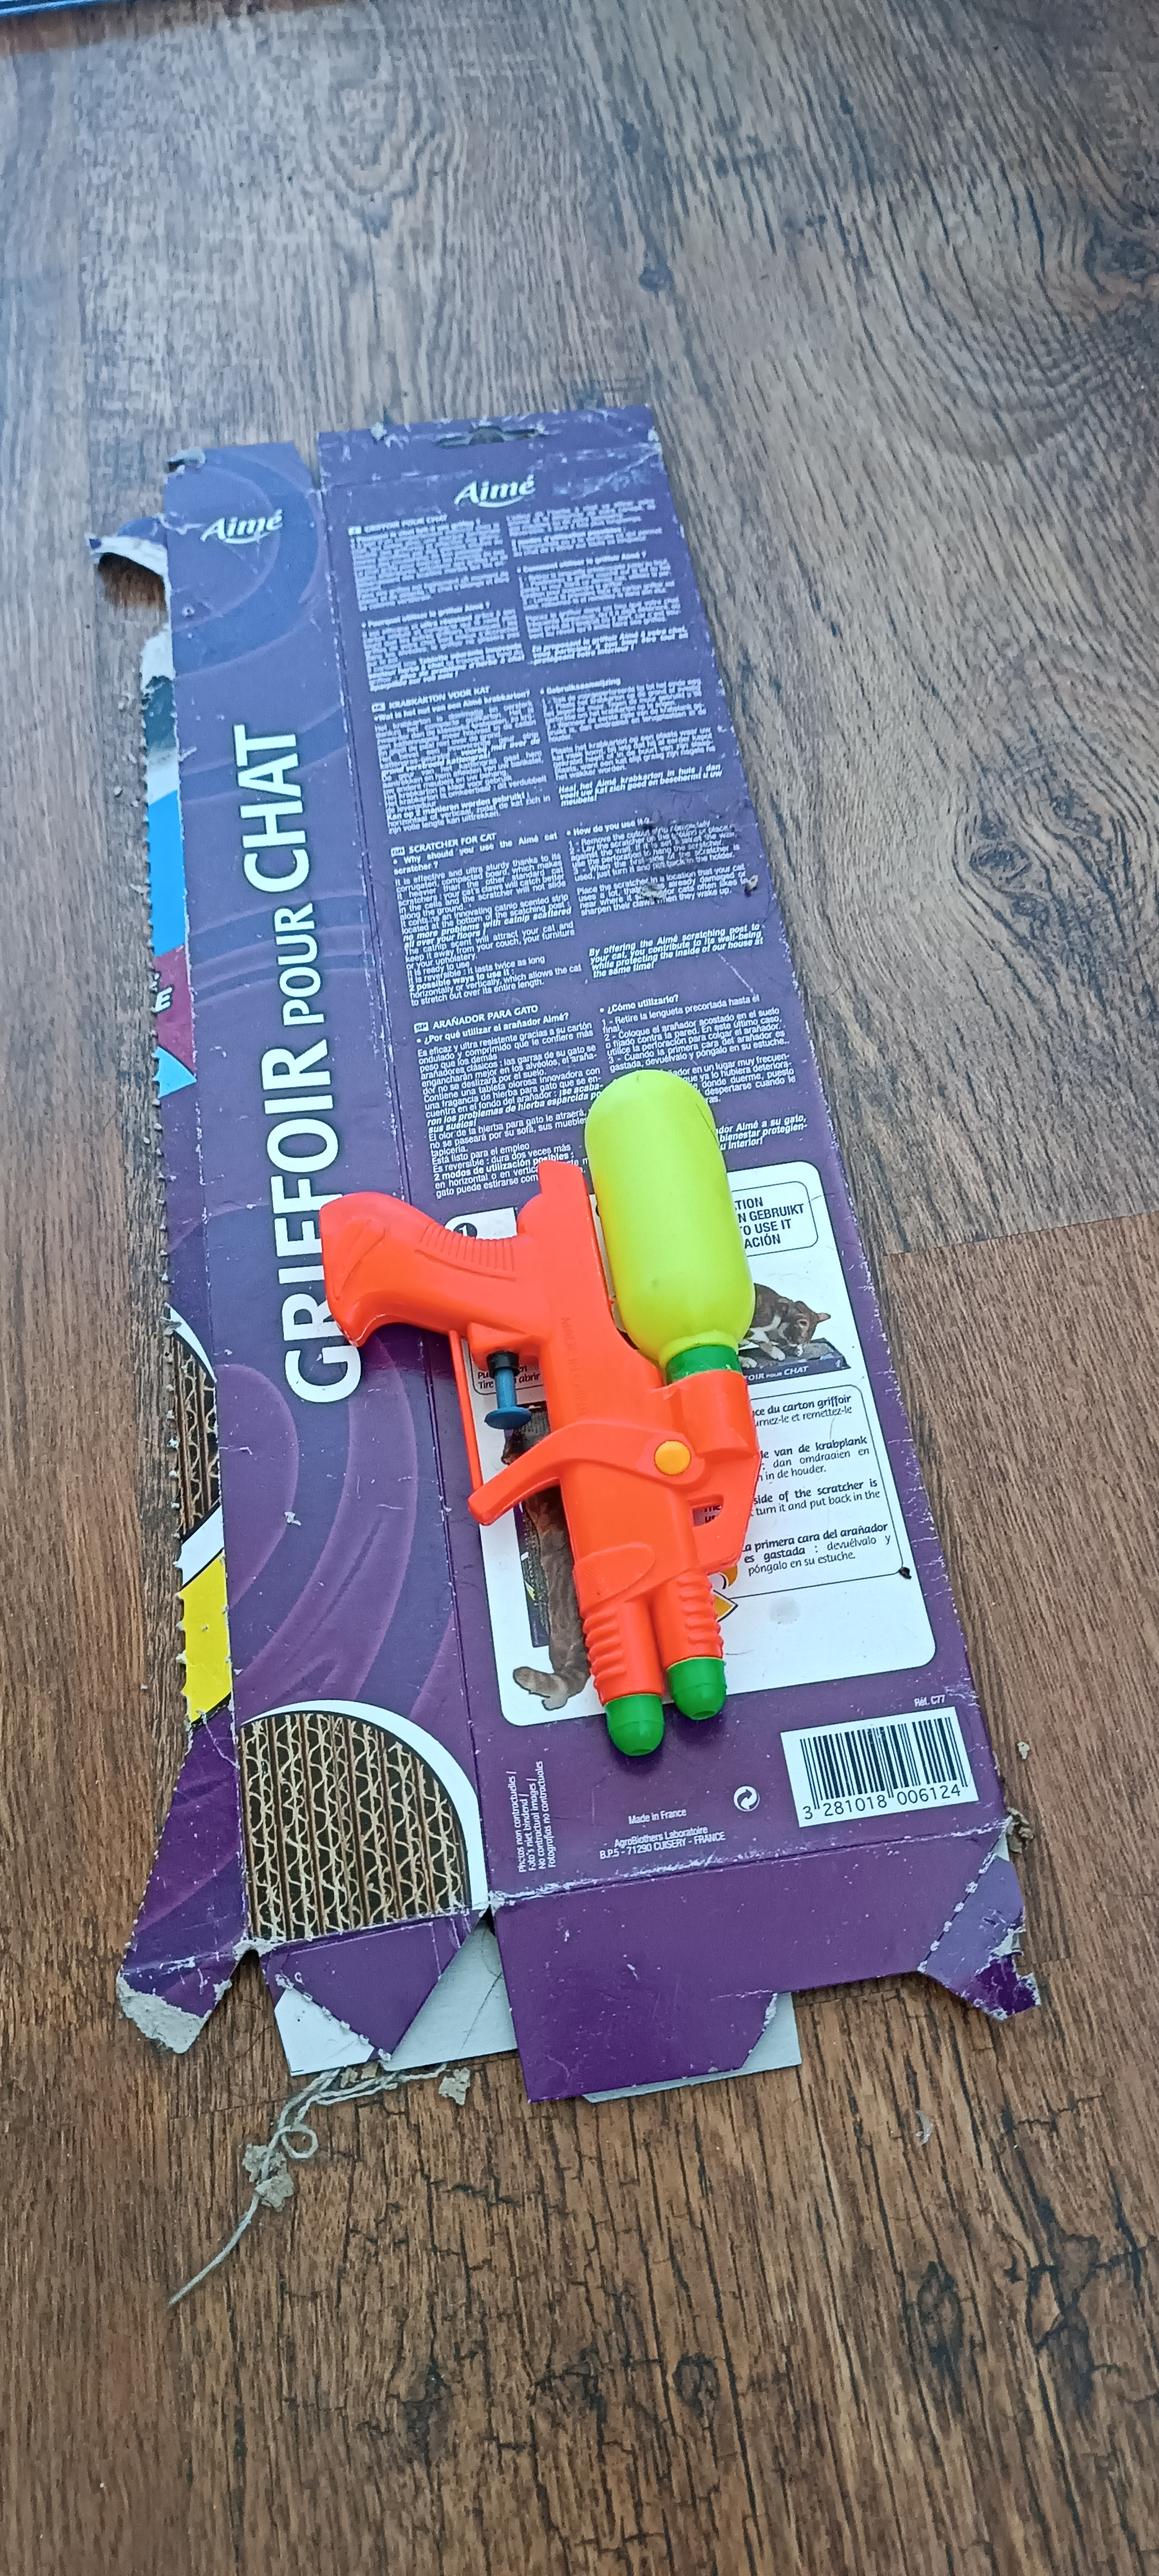Water Gun: (317, 1071, 765, 1759)
